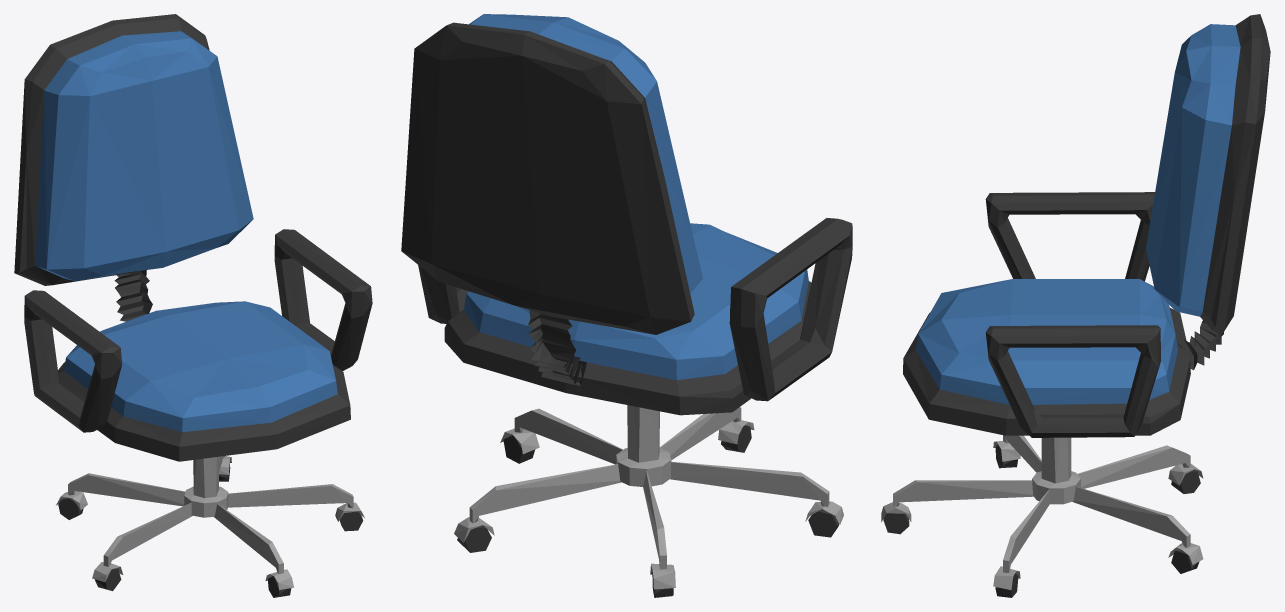
The model's file is cafe_office_chair.fbx.
3 renders of one model, left to right at view 1: azimuth 30°, elevation 25°; view 2: azimuth 150°, elevation 25°; view 3: azimuth 270°, elevation 25°, orthographic. The views are drawn at different scales.
Parts seen in each view (by area): view 1: cafe_office_chair_LOD0; view 2: cafe_office_chair_LOD0; view 3: cafe_office_chair_LOD0.
Boxes of the visible parts, <box> form: cafe_office_chair_LOD0: <box>14,14,372,597</box>; cafe_office_chair_LOD0: <box>401,14,852,597</box>; cafe_office_chair_LOD0: <box>881,14,1270,597</box>.
Size of what is drawn, in the model's own units: 0.6724 by 1.05 by 0.7521.
Materials: 1 (1 with a texture image).
